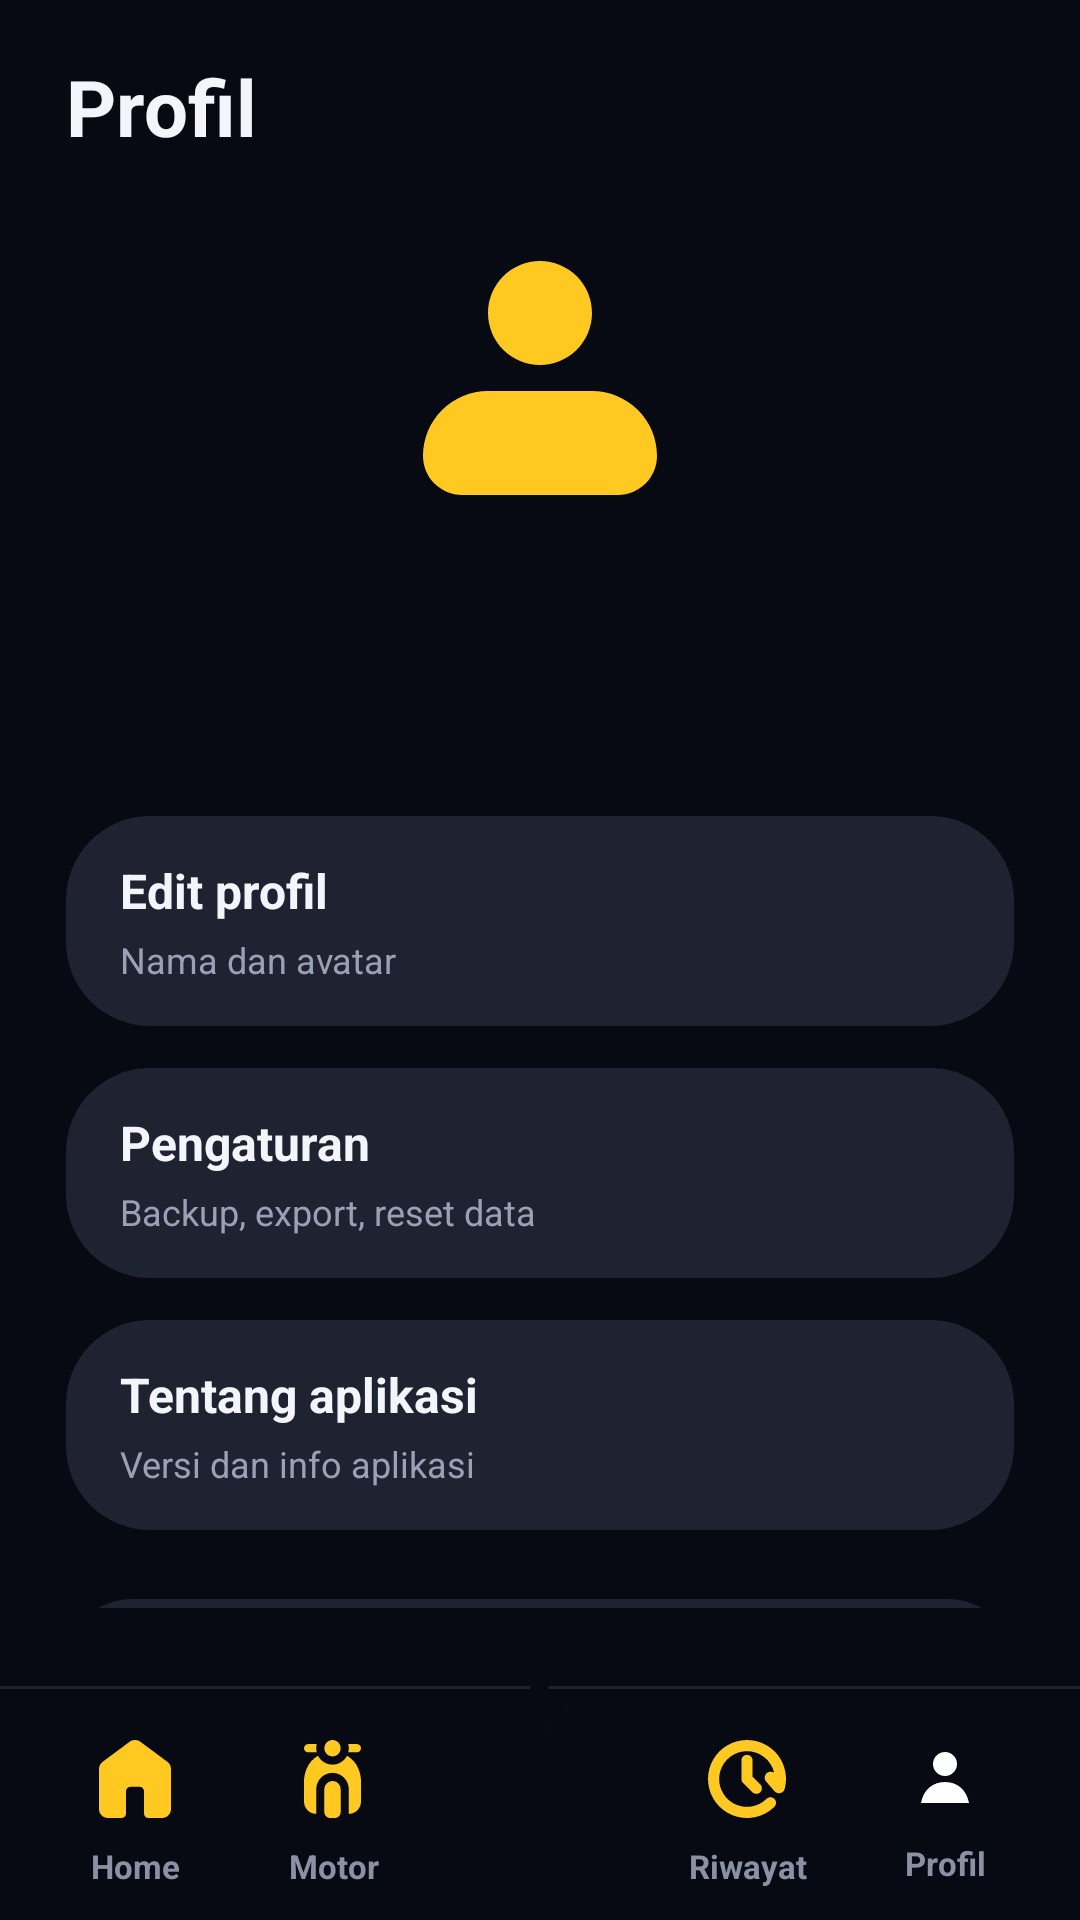

Screen size 1080 × 1920. Icon name, then its center in pixels as [x,y]:
user: [540,378]
